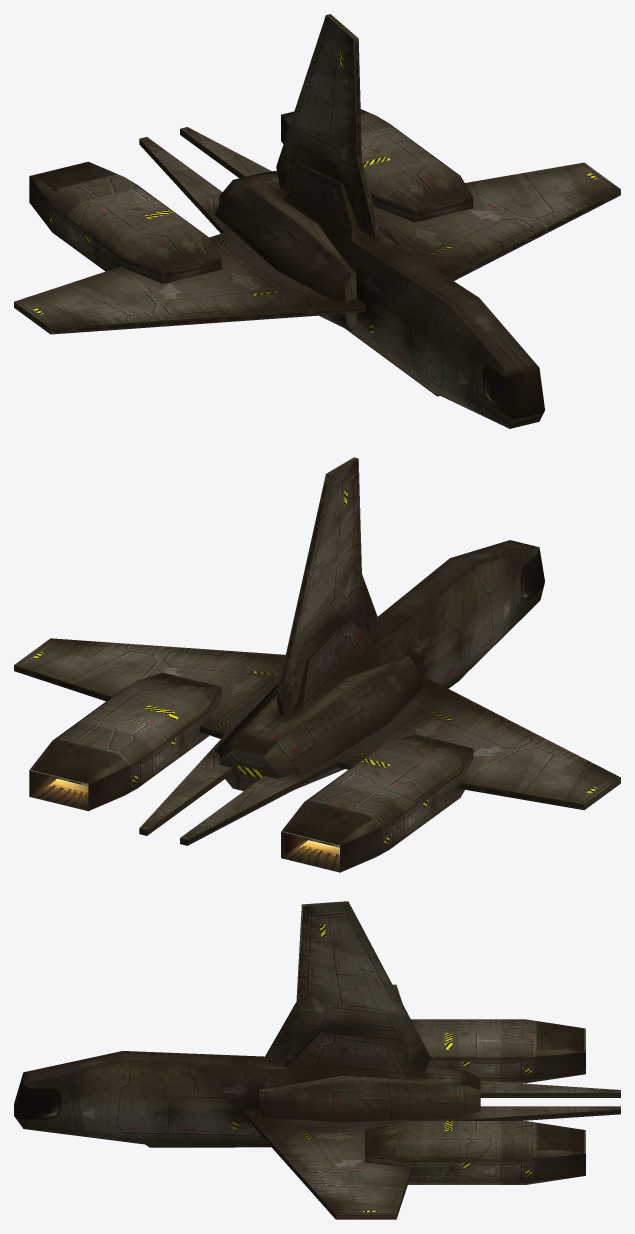
The model's file is hyena.obj.
3 views of the same model, one above another, from view 1: azimuth 30°, elevation 25°; view 2: azimuth 150°, elevation 25°; view 3: azimuth 270°, elevation 25° (orthographic). The views are drawn at different scales.
Bounding box in the file's own units: 180 × 87.89 × 201.
1 material, 1 textured.
